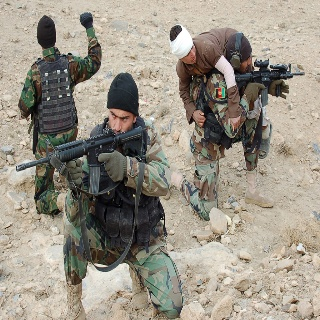rifle: (15, 125, 142, 196), (227, 58, 304, 109)
